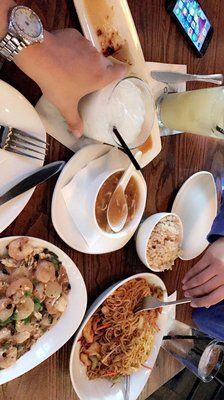salad: (132, 295, 191, 315)
sandwich: (0, 160, 65, 206)
sushi: (1, 236, 88, 386), (135, 212, 183, 272)
